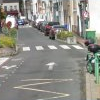crosswalk: (22, 44, 83, 51)
